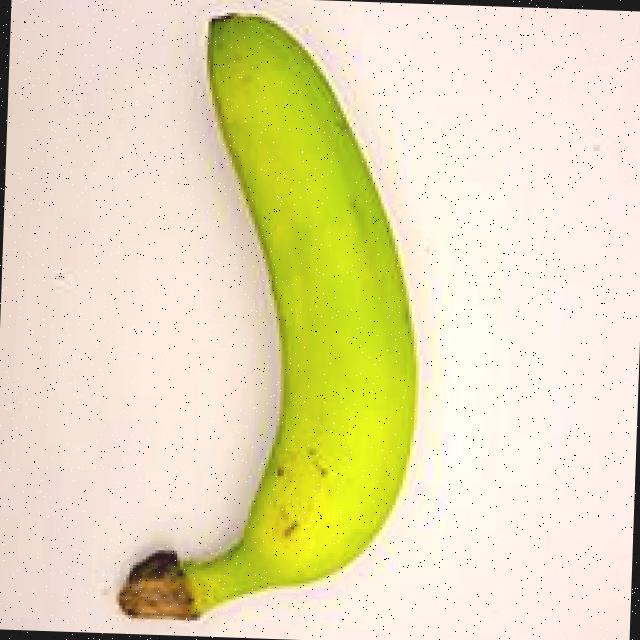Unripe: (73, 0, 462, 640)
